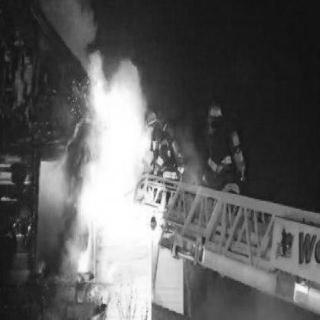Fire: (70, 47, 158, 271)
